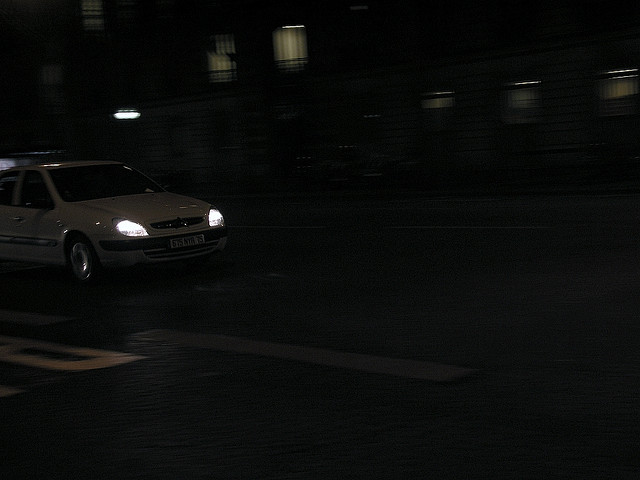car: (5, 157, 239, 285)
